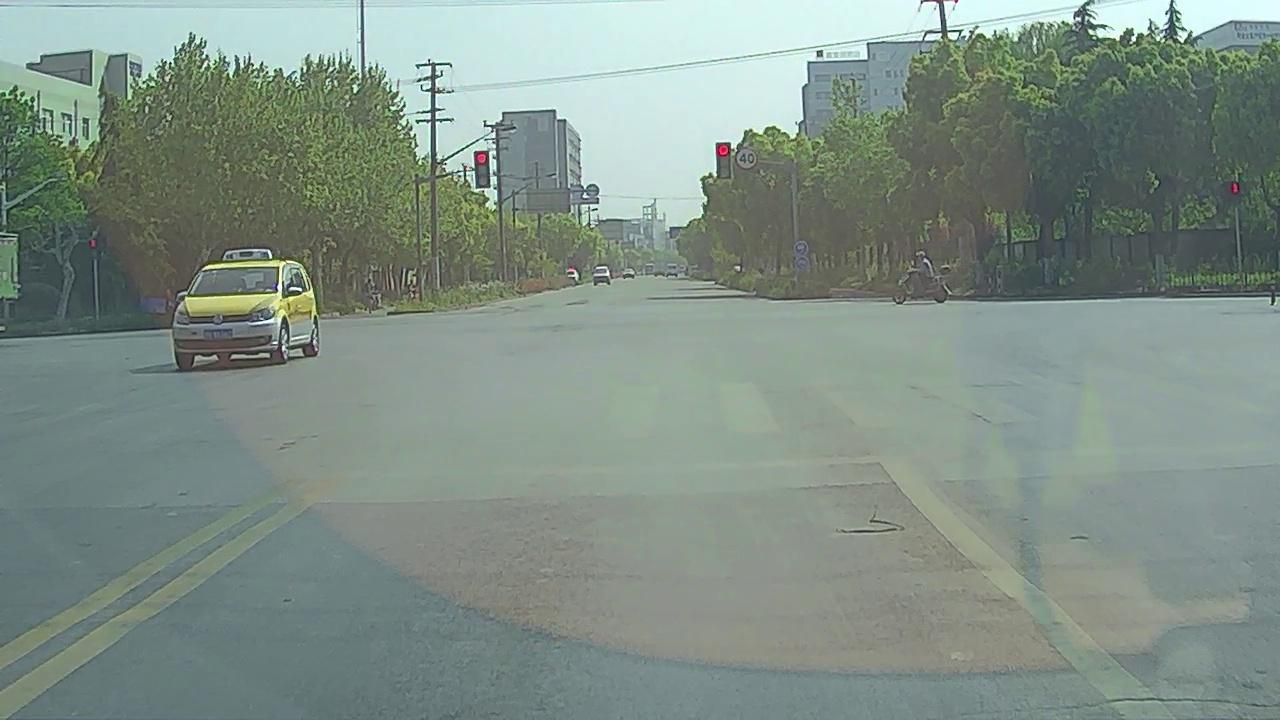traffic_light: (474, 150, 491, 187), (716, 142, 731, 179)
